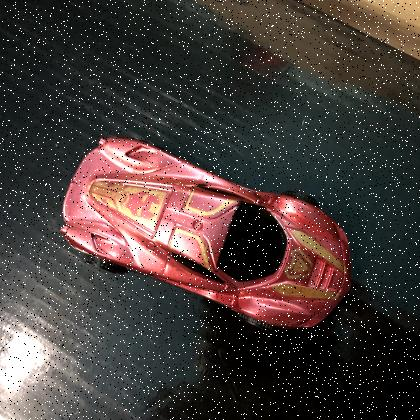Car: (60, 136, 354, 332)
